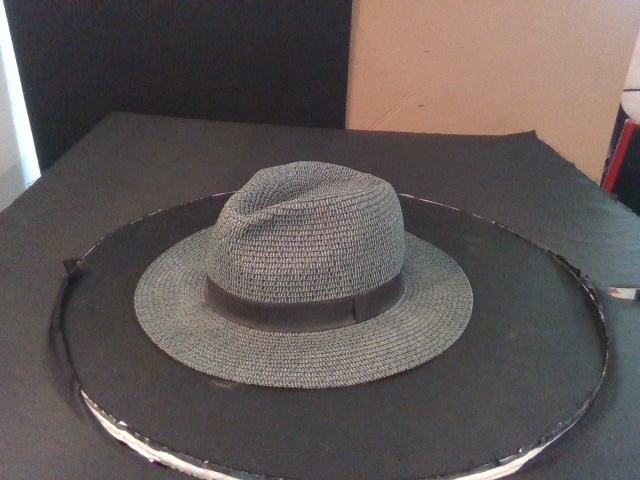hat: (133, 162, 473, 389)
